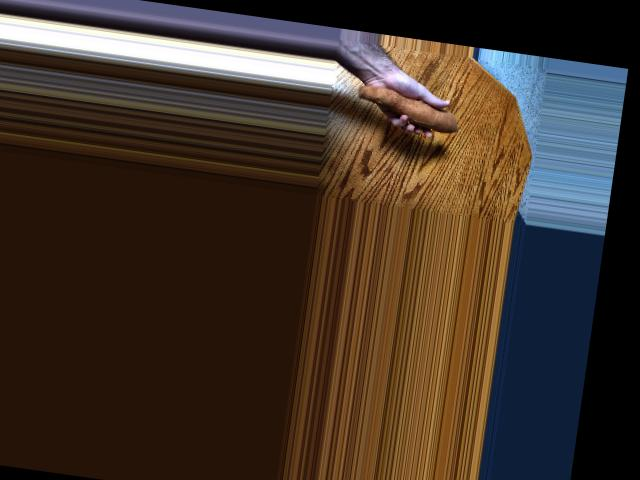sweet_potato: (356, 83, 464, 135)
